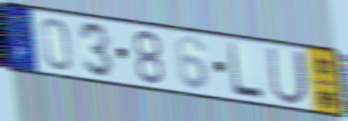0: (40, 17, 74, 72)
3: (77, 21, 115, 79)
6: (174, 34, 211, 93)
8: (132, 28, 164, 86)
L: (225, 40, 267, 102)
U: (265, 45, 311, 107)
